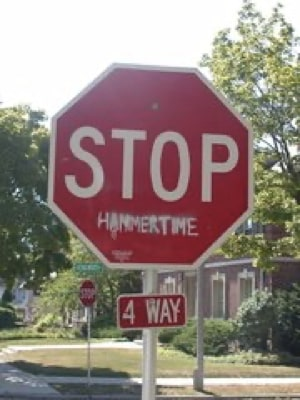StopSign: (45, 60, 257, 274)
